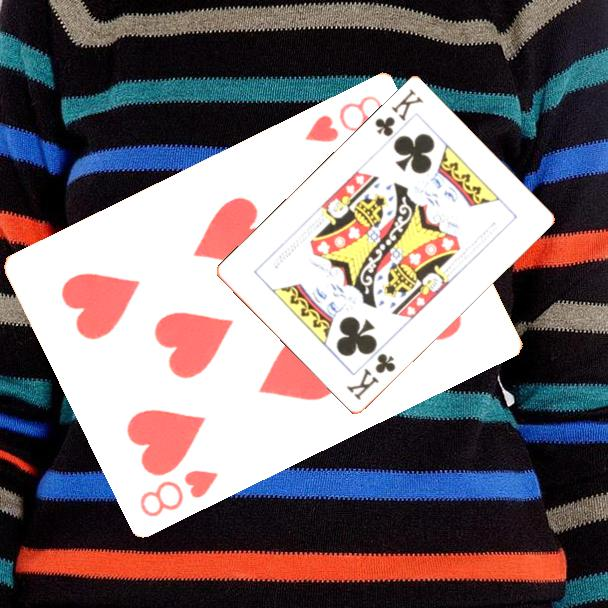c13: (343, 350, 398, 404), (371, 86, 426, 140)
h08: (136, 465, 222, 520), (301, 91, 387, 145)
